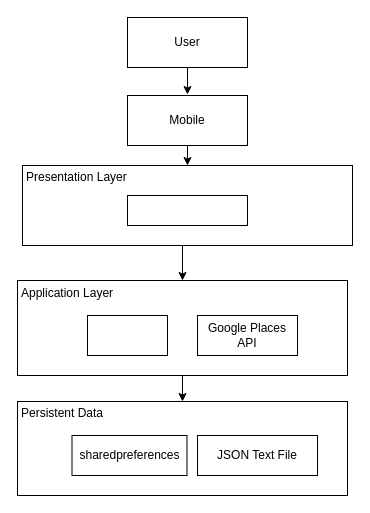
Some shapes in this 370 by 513 pixel diagram are drawn without their labels. The shapes that lost their labels are listed below. From the top down, each one's centre as x and y in pixels, then its label:
At point 187,210: "Java".
At point 127,335: "Google Map".
